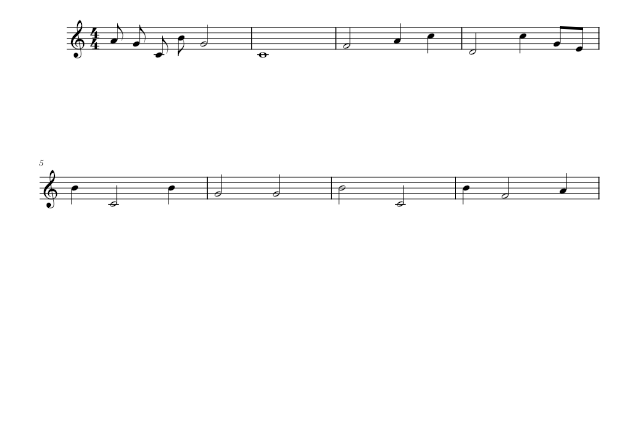Treble Clef: (67, 17, 89, 63), (40, 168, 61, 214)
